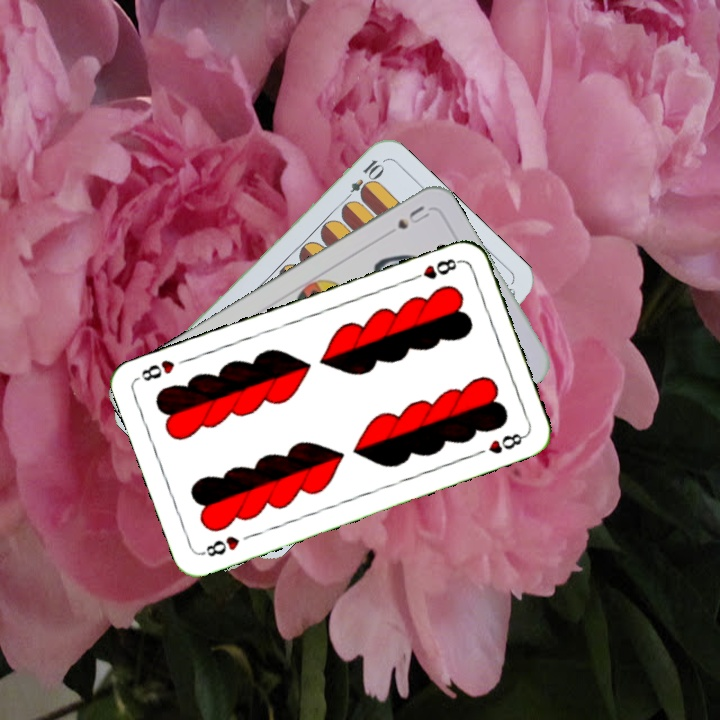E10: (339, 155, 386, 206)
H8: (406, 254, 463, 284), (198, 532, 243, 560)
SU: (393, 201, 432, 232)
